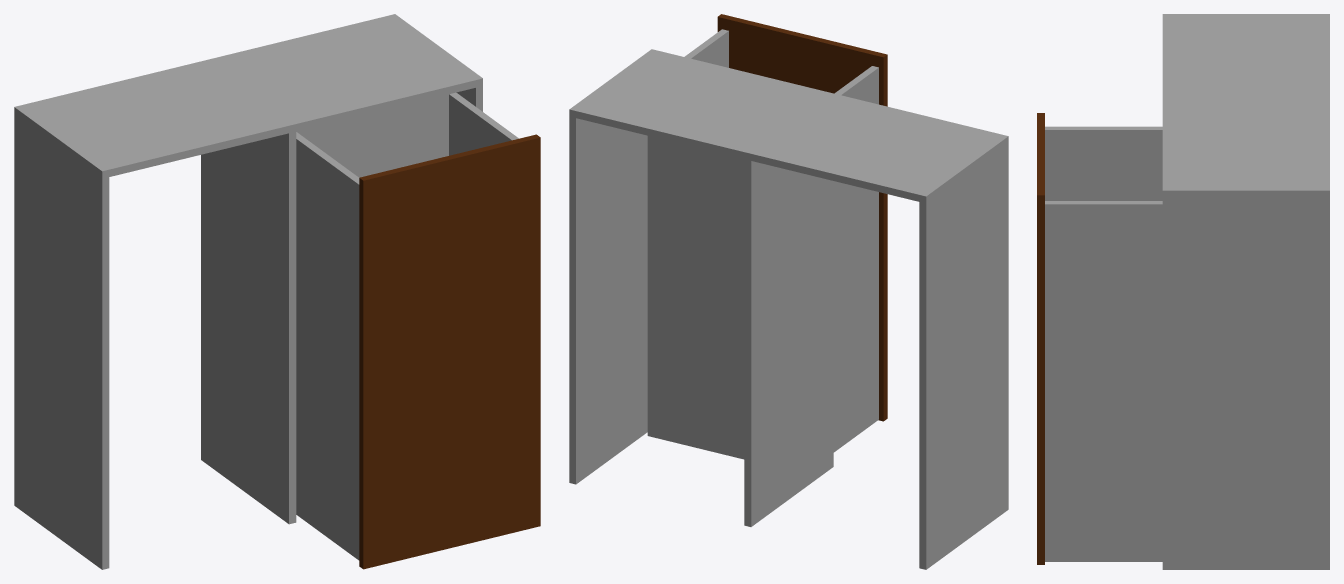
Rendered from meuble_68fb4ba58f56e.glb.
3 renders of one model, left to right at view 1: azimuth 30°, elevation 25°; view 2: azimuth 150°, elevation 25°; view 3: azimuth 270°, elevation 25°, orthographic. The views are drawn at different scales.
Parts seen in each view (by area): view 1: world; view 2: world; view 3: world.
Part boxes in pixels (x1,y1,x2,y2): world: (14, 14, 540, 569); world: (569, 14, 1008, 569); world: (1037, 14, 1329, 569).
Bounding box in the file's own units: 1 × 1 × 0.7.
1 material, 1 textured.
